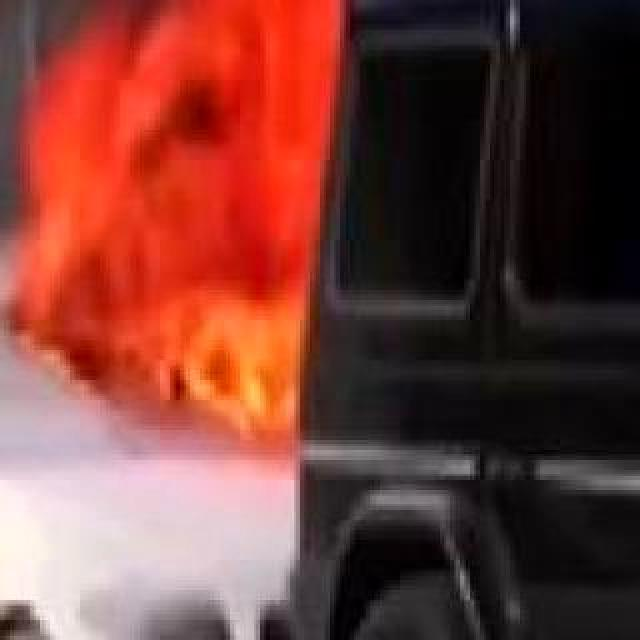fire: (50, 0, 356, 426)
